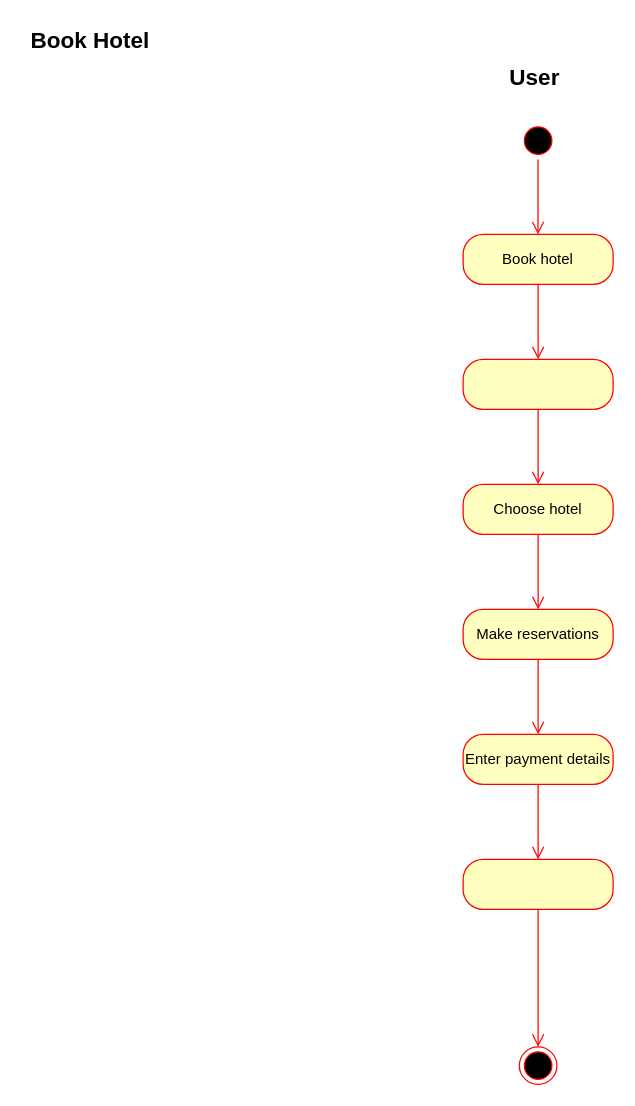
Image size: 635x1106. Some labels were removed from this diagram. The shapes that lost their labels are listed below. From the top down, each one's centre as x and y in pixels, then its label:
the point at 537,383: Enter reservation details
the point at 537,883: Pay
